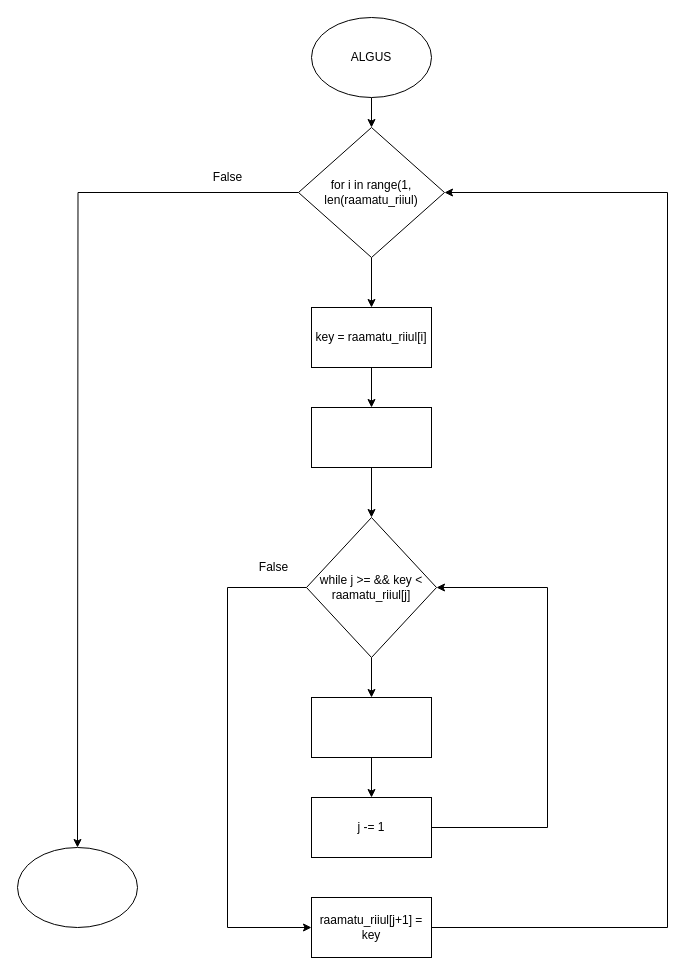
This 693x975 diagram has some shape labels left out. Here are the shapes that lost their labels. From the top down, the box of each, then its label:
(310, 406, 432, 468): j = i - 1
(310, 696, 432, 758): raamatu_riiul[j+1] = raamatu_riiul[j]
(16, 846, 138, 928): LÕPP
